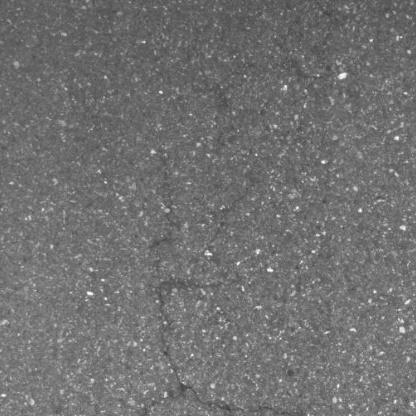Cracks: (156, 275, 280, 416), (150, 186, 185, 270), (209, 191, 253, 246)
